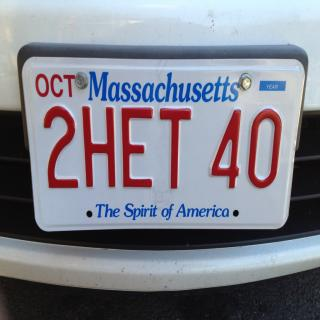license: (22, 58, 307, 232)
